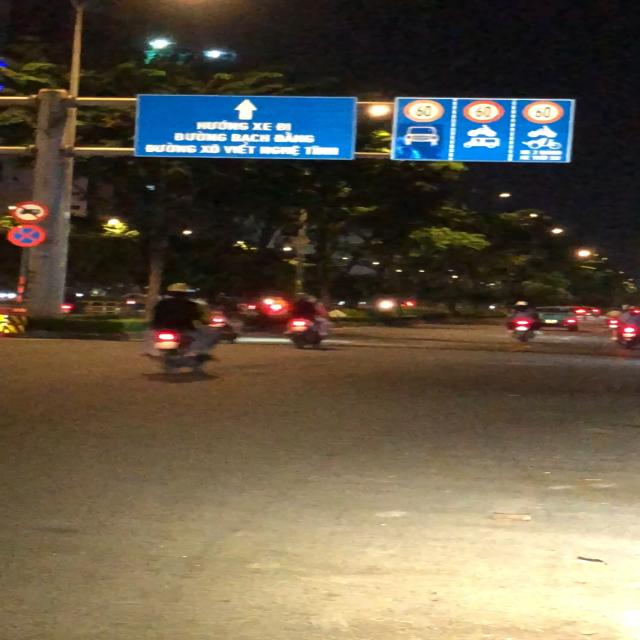Bien bao cam dung xe va do xe: (4, 224, 48, 248)
Bien bao cam xe oto tai: (8, 200, 48, 223)
Bien bao toc do toi da cho phep: (401, 99, 445, 124), (461, 100, 502, 126), (522, 101, 564, 125)
